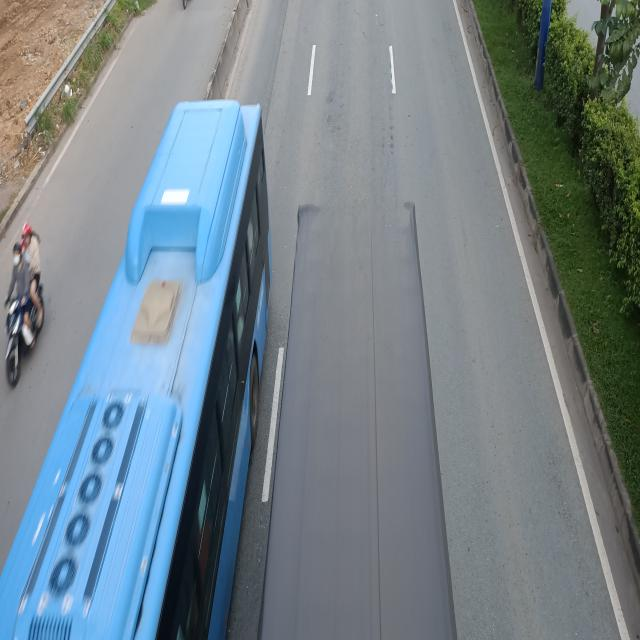coach: (10, 98, 272, 640)
